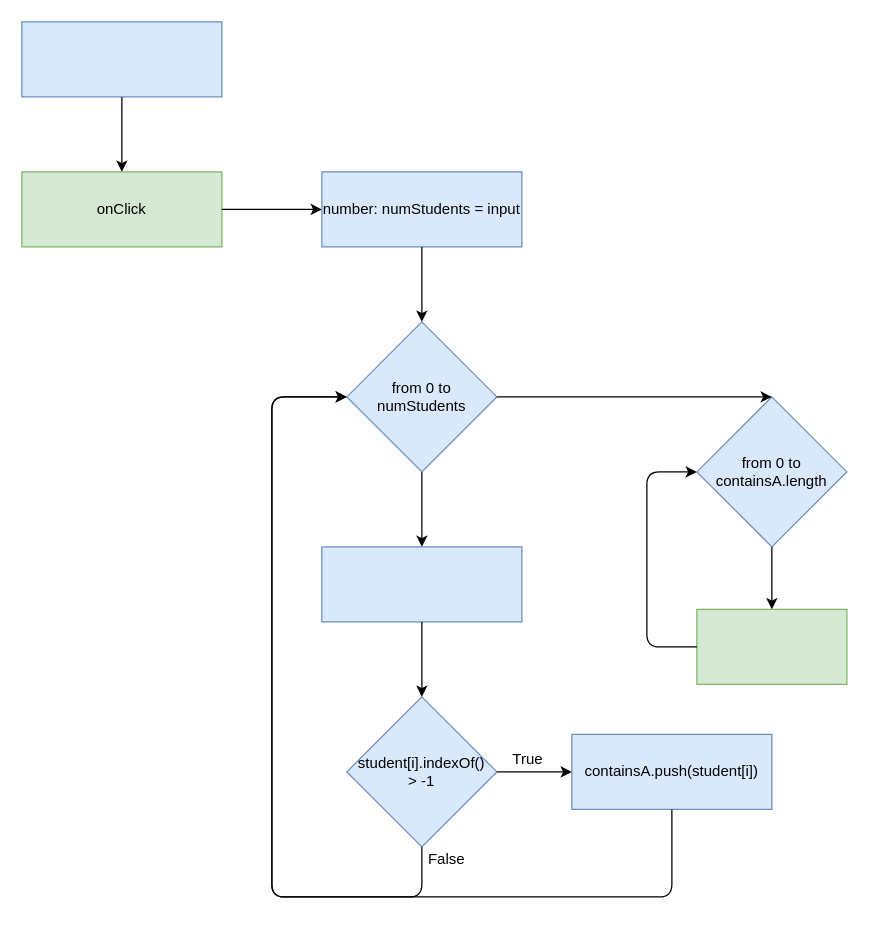
Some shapes in this 869 by 929 pixel diagram are drawn without their labels. Each missing label, with the box of its shape:
array: student, containsA: (21, 21, 222, 97)
render containsA[i]: (696, 608, 847, 684)
student[i] = input: (321, 546, 522, 622)
